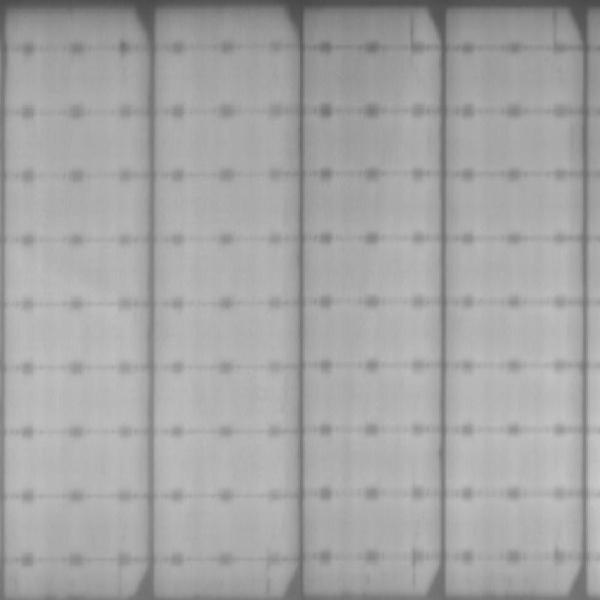scratch: (547, 2, 565, 56), (407, 4, 421, 61)
